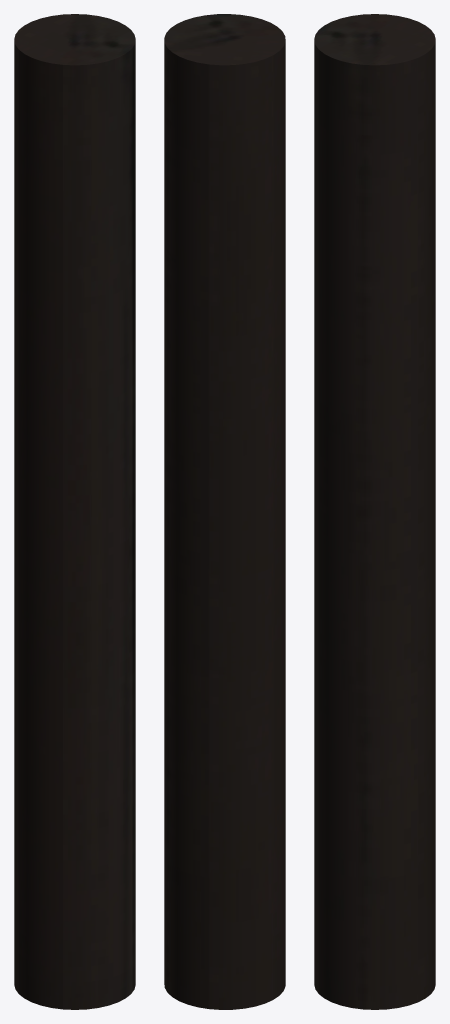
Rendered from seat__seat_hinge_tube.glb.
3 renders of one model, left to right at view 1: azimuth 90°, elevation 25°; view 2: azimuth 210°, elevation 25°; view 3: azimuth 270°, elevation 25°, orthographic.
Parts seen in each view (by area): view 1: world; view 2: world; view 3: world.
Boxes of the visible parts, box(x1,y1,x2,y2) form: world: box(14, 14, 135, 1009); world: box(164, 14, 285, 1009); world: box(314, 14, 435, 1009).
Size of the model in its own units: 0.028 by 0.24 by 0.028.
Materials: 1 (1 with a texture image).
